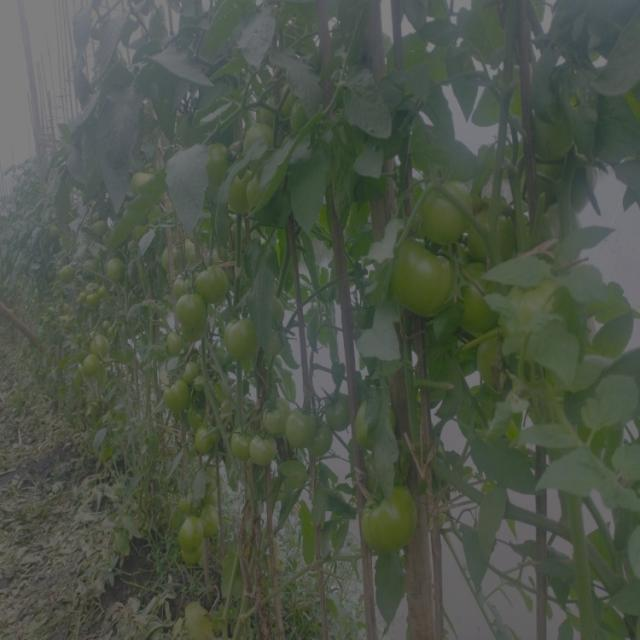tomato: (384, 237, 460, 322), (413, 173, 476, 239), (358, 487, 417, 555), (464, 265, 506, 330), (534, 109, 577, 164), (476, 207, 524, 255), (223, 316, 261, 365), (177, 292, 210, 347), (512, 280, 559, 318), (359, 397, 399, 441), (246, 116, 279, 161), (195, 263, 229, 306), (203, 139, 232, 185), (289, 402, 319, 445), (234, 165, 259, 213), (262, 401, 296, 435), (131, 159, 159, 200), (160, 383, 194, 416), (253, 432, 282, 470), (168, 240, 203, 270), (326, 394, 352, 431), (191, 425, 218, 458), (177, 516, 204, 548), (100, 255, 130, 281), (286, 100, 308, 134), (86, 335, 115, 360), (205, 509, 226, 541), (314, 429, 337, 458), (186, 549, 208, 579), (168, 363, 201, 383), (228, 428, 251, 456), (171, 270, 195, 294), (54, 261, 79, 283), (73, 357, 105, 374), (276, 79, 293, 105), (93, 218, 113, 235)
